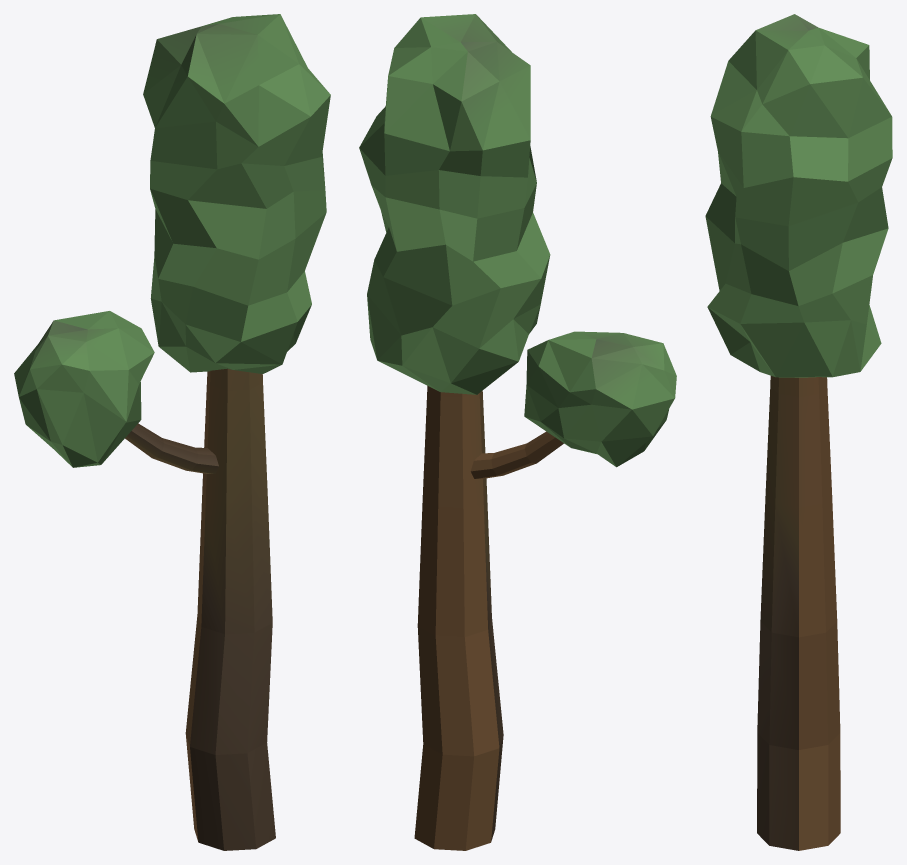
Rendered from Tree2 1.fbx.
The picture shows the model from 3 angles, left to right: view 1: azimuth 30°, elevation 25°; view 2: azimuth 150°, elevation 25°; view 3: azimuth 270°, elevation 25°; orthographic projection.
Visible parts, largest first — view 1: Tree2; view 2: Tree2; view 3: Tree2.
Part boxes in pixels (x1,y1,x2,y2): Tree2: [14, 14, 330, 850]; Tree2: [359, 14, 676, 850]; Tree2: [705, 14, 892, 850].
Bounding box in the file's own units: 330 × 849 × 179.
